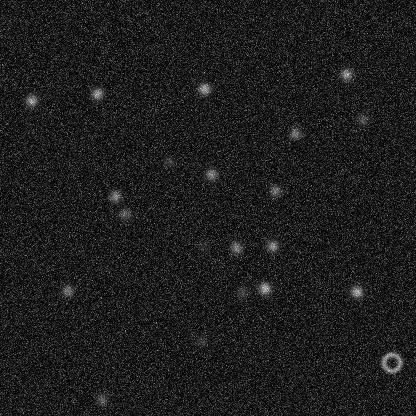Ring: (379, 350, 403, 374)
Spot: (233, 283, 249, 299), (354, 111, 370, 127), (196, 81, 212, 97), (228, 239, 244, 255), (264, 237, 280, 253), (203, 166, 219, 182), (23, 92, 39, 108), (89, 85, 105, 101), (338, 66, 354, 82), (161, 153, 177, 169), (256, 280, 272, 296), (93, 391, 109, 407), (348, 283, 364, 299), (287, 125, 303, 141), (106, 188, 122, 204), (116, 205, 132, 221), (193, 333, 209, 349), (195, 238, 211, 254), (267, 182, 283, 198), (59, 282, 75, 298)
